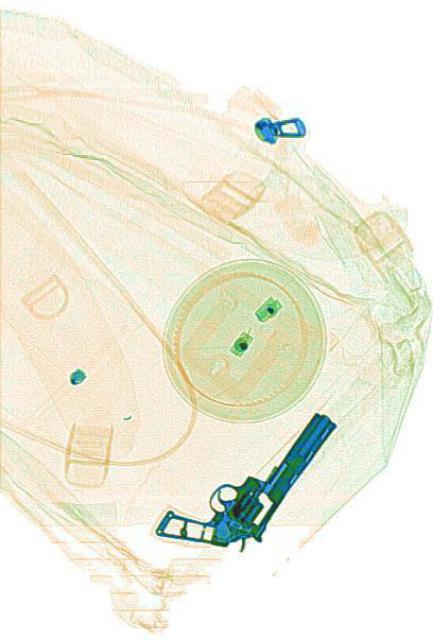Gun: (153, 347, 336, 606)
